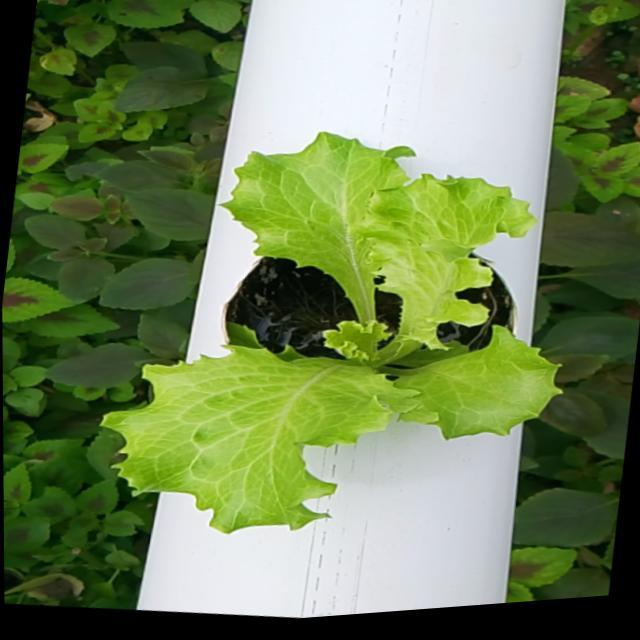Baby: (126, 140, 581, 536)
